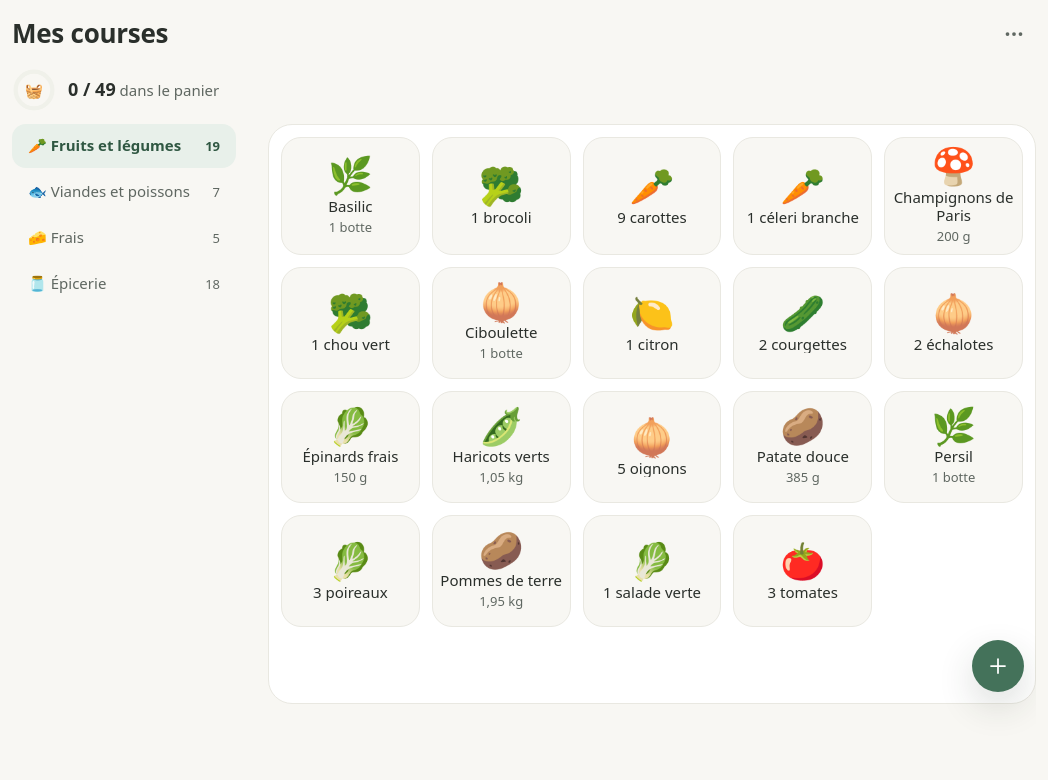
Test: <ShoppingPage /> › affiche « n / total » dans le panier et le met à jour
The width and height of the screenshot is (1048, 780).
Expected: the text "0 / 49" is shown, [68, 77, 116, 101]
What coordinates should you click on to do the following:
click the checkbox labelled "🌿 Basilic 1 botte"
I would click on:
 (350, 196)
Its box is [281, 137, 420, 255].
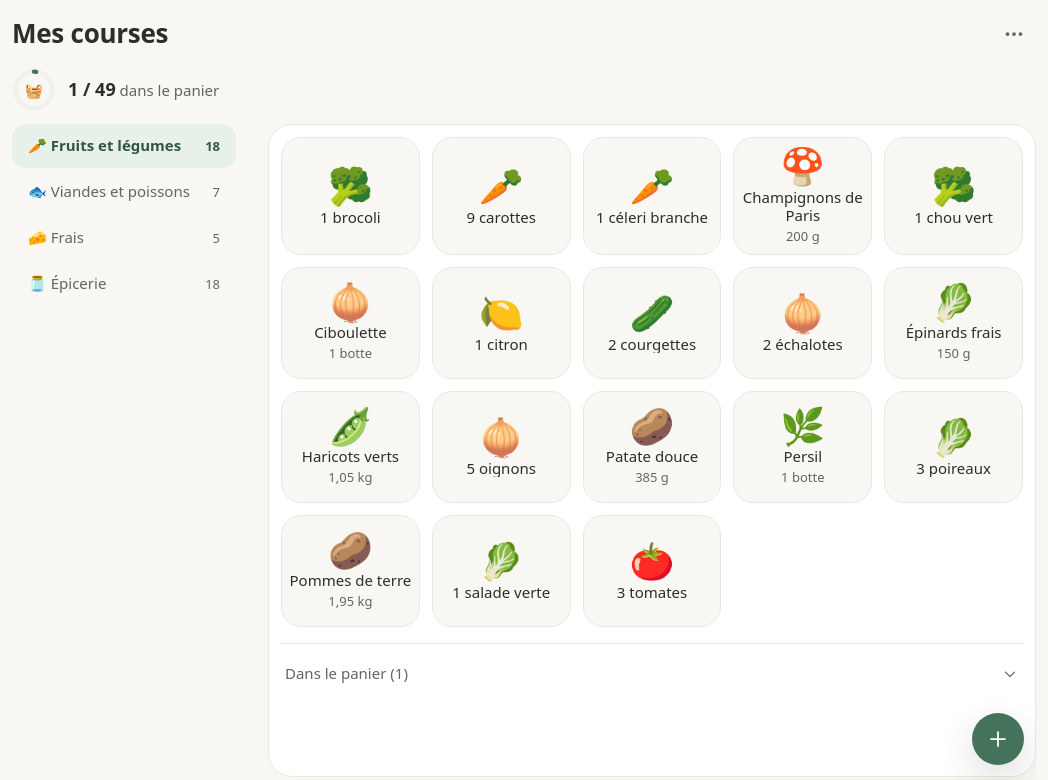
Expected: the text "1 / 49" is shown, [68, 77, 116, 101]
